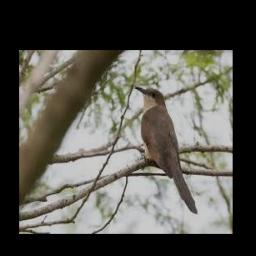Cuckoo: (135, 87, 198, 214)
